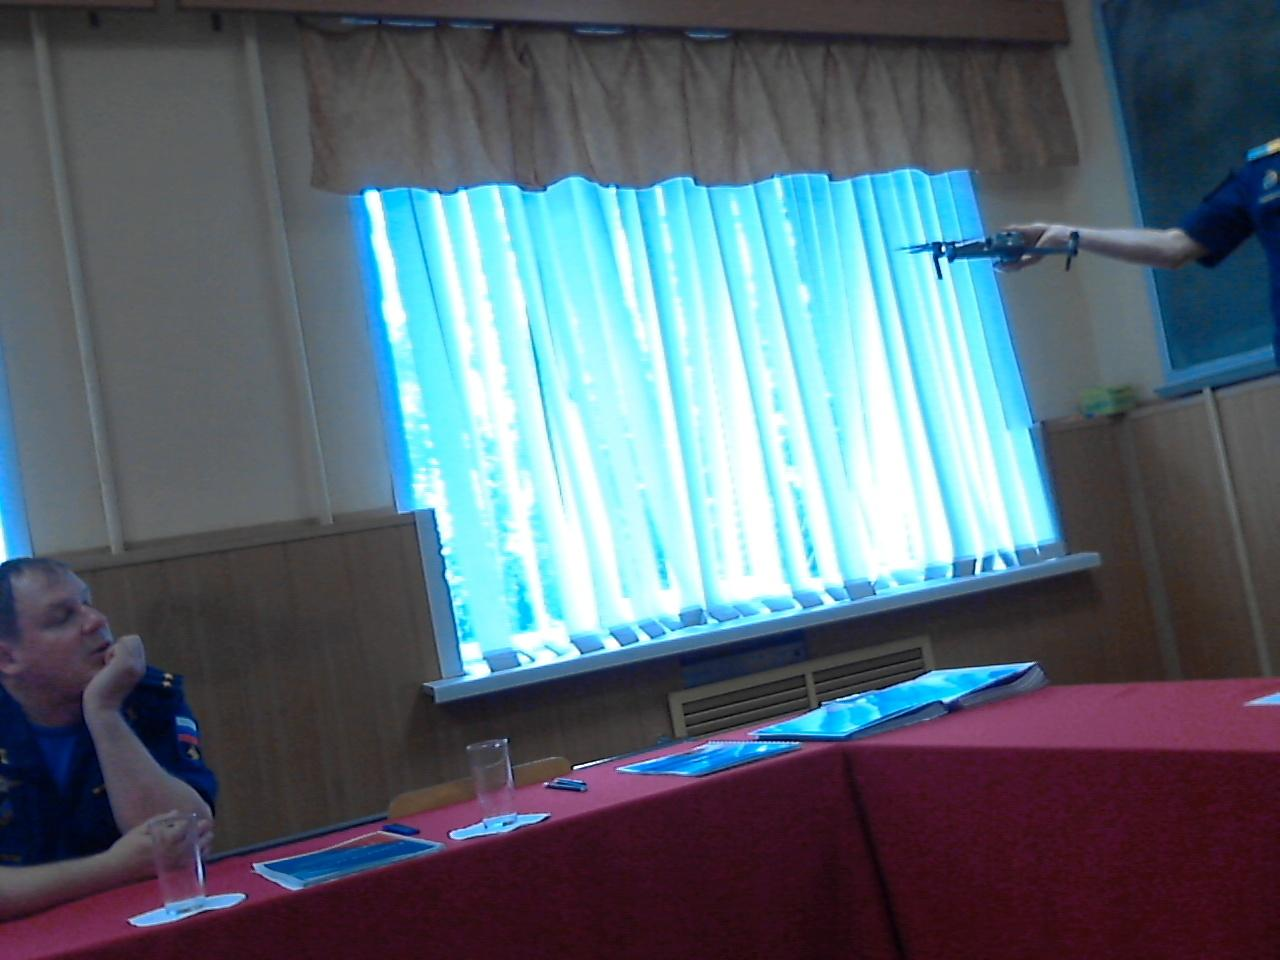drone: (890, 202, 1126, 288)
